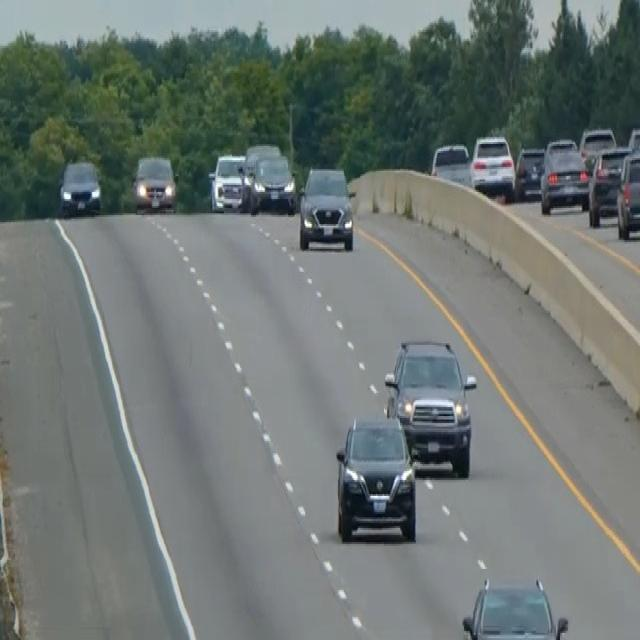car: (297, 164, 354, 250), (539, 139, 589, 213), (587, 144, 631, 226), (248, 153, 296, 215), (470, 132, 515, 198), (132, 153, 178, 213), (58, 156, 102, 217), (208, 151, 247, 212), (243, 140, 280, 198), (616, 149, 639, 240), (430, 140, 471, 187), (515, 144, 545, 199), (578, 124, 616, 166), (627, 123, 639, 153)
jeep: (383, 334, 478, 476), (333, 409, 419, 544), (460, 572, 569, 638)
